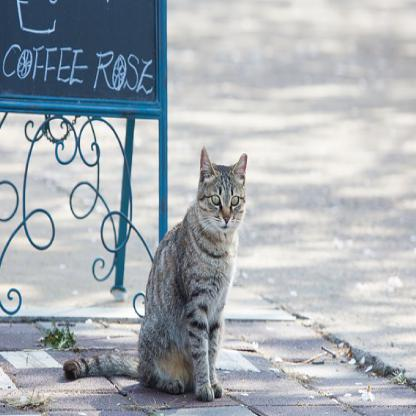cat: (63, 146, 249, 400)
